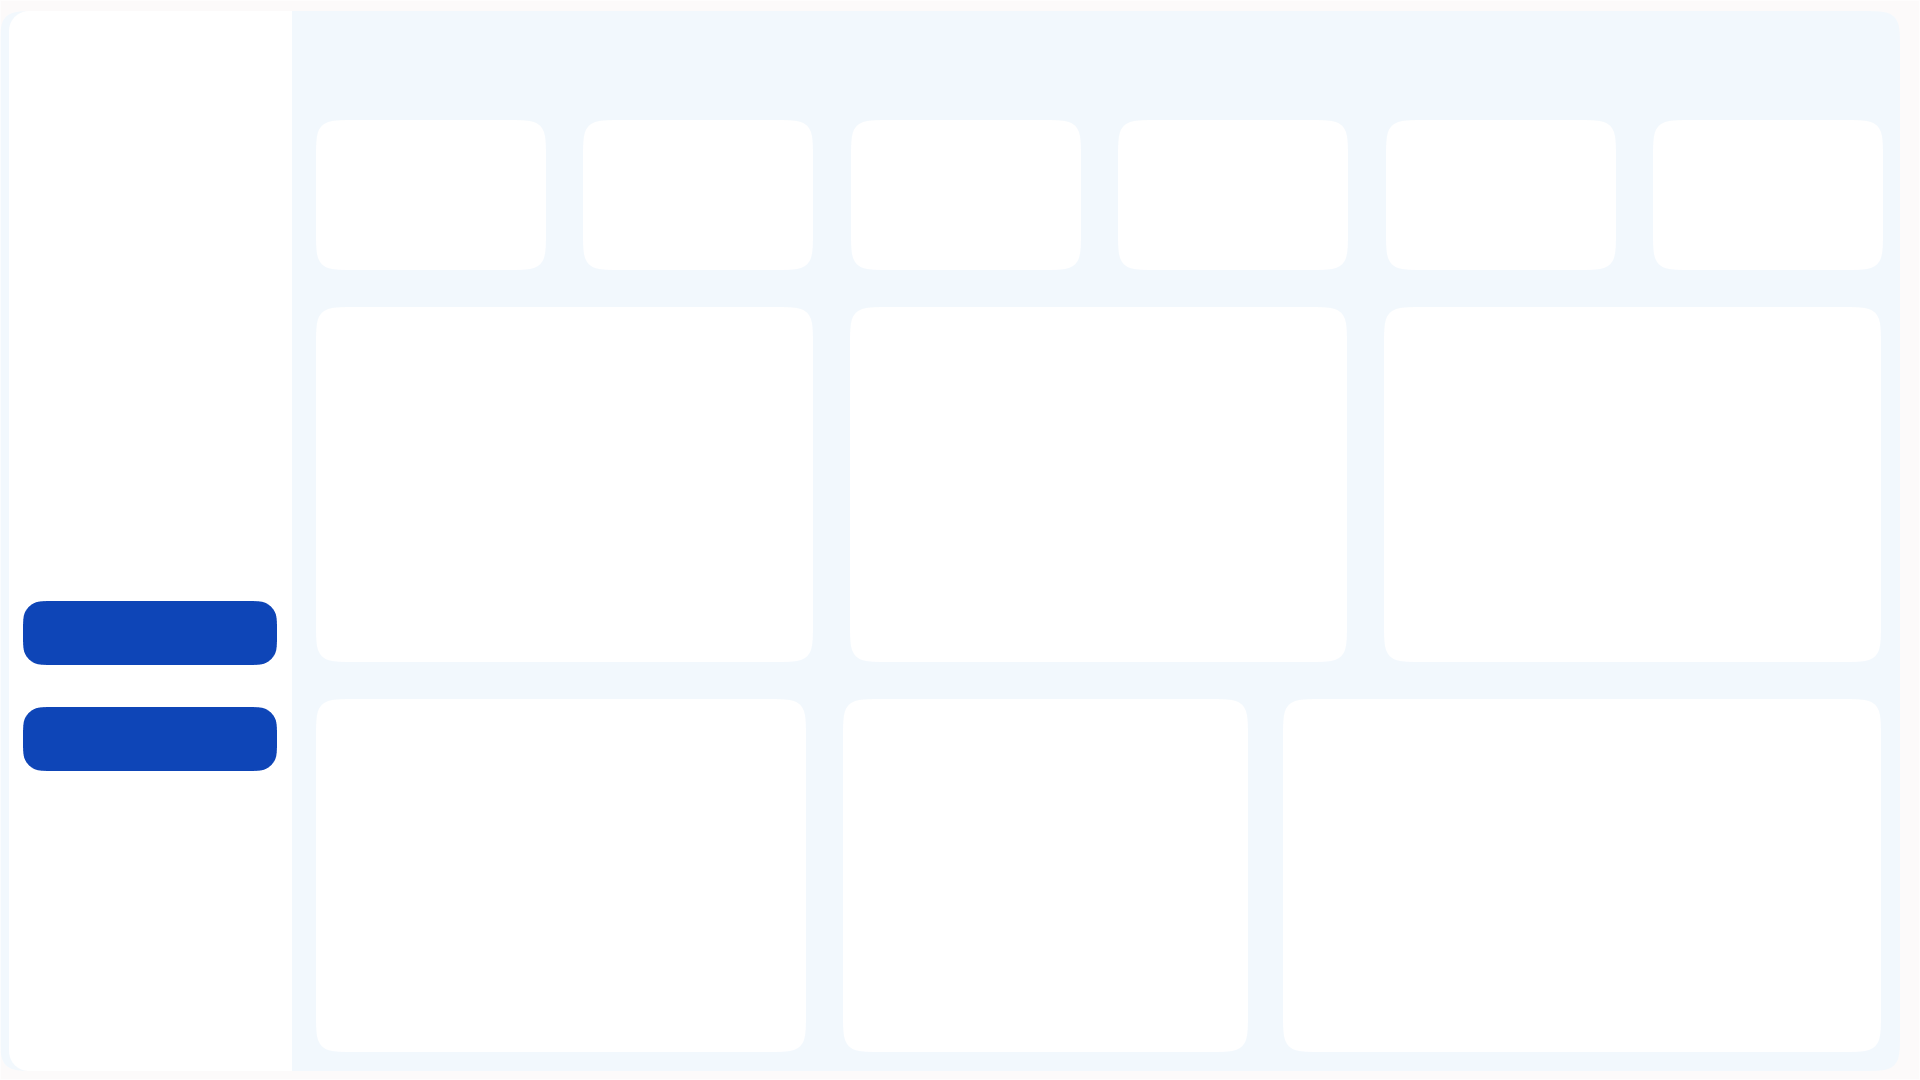

Layout of this report page (visuals, bound fields, positions):
{"tool":"powerbi","page":{"name":"Efficacy","canvas":[1920,1080],"ordinal":5},"visuals":[{"type":"cardVisual","fields":{"Data":["All Measures.Total Evaluated Patients"]},"box":[317.3,116.9,226.7,140.8],"z":0},{"type":"cardVisual","fields":{"Data":["All Measures.Improved Patients"]},"box":[575,116.9,233.8,140.8],"z":1000},{"type":"cardVisual","fields":{"Data":["All Measures.Response Rate %"]},"box":[858.9,116.9,224.3,140.8],"z":2000},{"type":"cardVisual","fields":{"Data":["All Measures.Avg PostTreatmentScore"]},"box":[1111.8,116.9,231.4,140.8],"z":3000},{"type":"cardVisual","fields":{"Data":["All Measures.Avg BaseLineScore"]},"box":[1386.2,116.9,226.7,157.5],"z":4000},{"type":"slicer","fields":{"Values":["Study_Master.StudyID"]},"box":[39.6,534.1,220.2,69.3],"z":5000},{"type":"slicer","fields":{"Values":["Patient_Details.Country"]},"box":[39.6,620.7,220.2,69.3],"z":6000},{"type":"donutChart","fields":{"Category":["Efficacy_Results.Response"],"Y":["All Measures.Total Evaluated Patients"]},"box":[317.3,314.9,491.5,346],"z":7000},{"type":"clusteredColumnChart","fields":{"Category":["Study_Master.StudyName"],"Y":["All Measures.Avg BaseLineScore","All Measures.Avg PostTreatmentScore"]},"box":[858.9,314.9,484.3,346],"z":8000},{"type":"barChart","fields":{"Category":["Study_Master.StudyName"],"Series":["Efficacy_Results.Response"],"Y":["All Measures.Total Evaluated Patients"]},"box":[317.3,703.8,491.5,343.6],"z":9000},{"type":"cardVisual","fields":{"Data":["All Measures.Avg Improvement"]},"box":[1648.7,116.9,236.2,140.8],"z":10000},{"type":"donutChart","fields":{"Category":["Study_Master.StudyName"],"Y":["All Measures.Response %"]},"box":[858.9,708.6,369.8,338.8],"z":11000},{"type":"lineClusteredColumnComboChart","fields":{"Category":["Site_Master.SiteName"],"Y":["All Measures.Total Evaluated Patients"],"Y2":["All Measures.Improved Patients"]},"box":[1281.2,703.8,603.6,343.6],"z":12000},{"type":"clusteredBarChart","fields":{"Category":["Study_Master.StudyName"],"Y":["All Measures.Avg Improvement"]},"box":[1386.2,314.9,498.7,346],"z":13000},{"type":"textbox","box":[28.6,701.5,245.7,76.3],"z":19000},{"type":"image","box":[1823.5,29.7,59.4,52],"z":20000},{"type":"textbox","box":[314.2,12.4,692.8,99],"z":22000},{"type":"textbox","box":[955.1,24.7,339,61.9],"z":23000},{"type":"slicer","fields":{"Values":["Site_Master.SiteID"]},"box":[39.6,447.5,220.2,69.3],"z":24000},{"type":"image","box":[1744.3,29.7,59.4,52],"z":25000},{"type":"image","box":[0,0,298.2,169.4],"z":26000}]}

Visuals, with their boxes on the page's 1920x1080 design canvas (x1, y1, x2, y2). These are canvas units, not pixel positions in the 1920x1080 screenshot, which may show the page scaled, cropped or inside an application window:
cardVisual - All Measures.Total Evaluated Patients: Rect(317, 117, 544, 258)
cardVisual - All Measures.Improved Patients: Rect(575, 117, 809, 258)
cardVisual - All Measures.Response Rate %: Rect(859, 117, 1083, 258)
cardVisual - All Measures.Avg PostTreatmentScore: Rect(1112, 117, 1343, 258)
cardVisual - All Measures.Avg BaseLineScore: Rect(1386, 117, 1613, 274)
slicer - Study_Master.StudyID: Rect(40, 534, 260, 603)
slicer - Patient_Details.Country: Rect(40, 621, 260, 690)
donutChart - Efficacy_Results.Response x All Measures.Total Evaluated Patients: Rect(317, 315, 809, 661)
clusteredColumnChart - Study_Master.StudyName x All Measures.Avg BaseLineScore: Rect(859, 315, 1343, 661)
barChart - Study_Master.StudyName x Efficacy_Results.Response: Rect(317, 704, 809, 1047)
cardVisual - All Measures.Avg Improvement: Rect(1649, 117, 1885, 258)
donutChart - Study_Master.StudyName x All Measures.Response %: Rect(859, 709, 1229, 1047)
lineClusteredColumnComboChart - Site_Master.SiteName x All Measures.Total Evaluated Patients: Rect(1281, 704, 1885, 1047)
clusteredBarChart - Study_Master.StudyName x All Measures.Avg Improvement: Rect(1386, 315, 1885, 661)
textbox: Rect(29, 702, 274, 778)
image: Rect(1824, 30, 1883, 82)
textbox: Rect(314, 12, 1007, 111)
textbox: Rect(955, 25, 1294, 87)
slicer - Site_Master.SiteID: Rect(40, 448, 260, 517)
image: Rect(1744, 30, 1804, 82)
image: Rect(0, 0, 298, 169)
